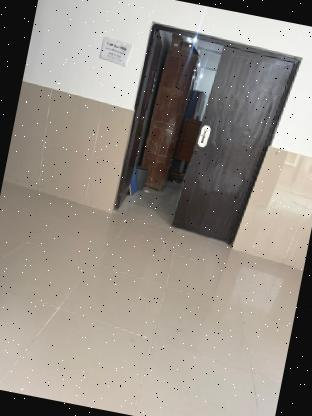door: (104, 18, 304, 256)
